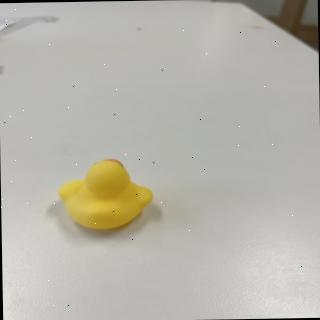duck_regular: (57, 157, 155, 231)
